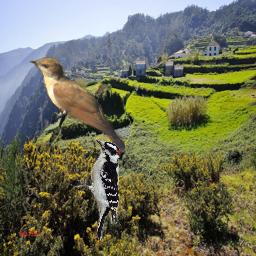Cuckoo: (29, 57, 125, 151)
Woodpecker: (73, 138, 121, 241)
